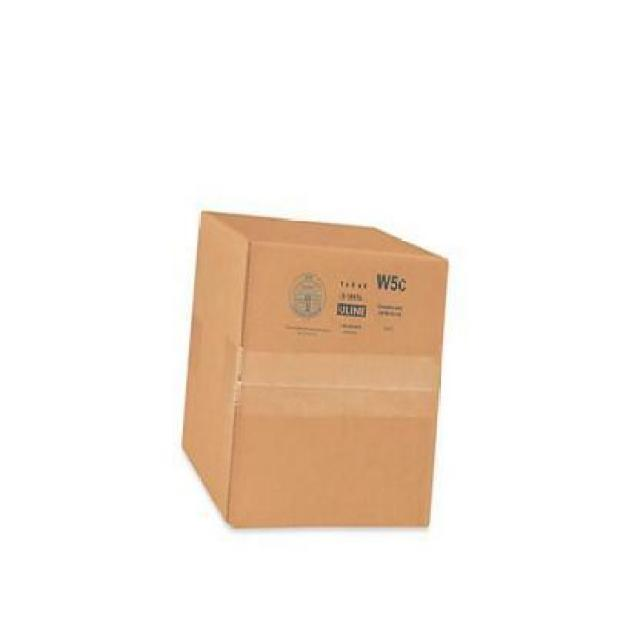box: (178, 202, 442, 532)
